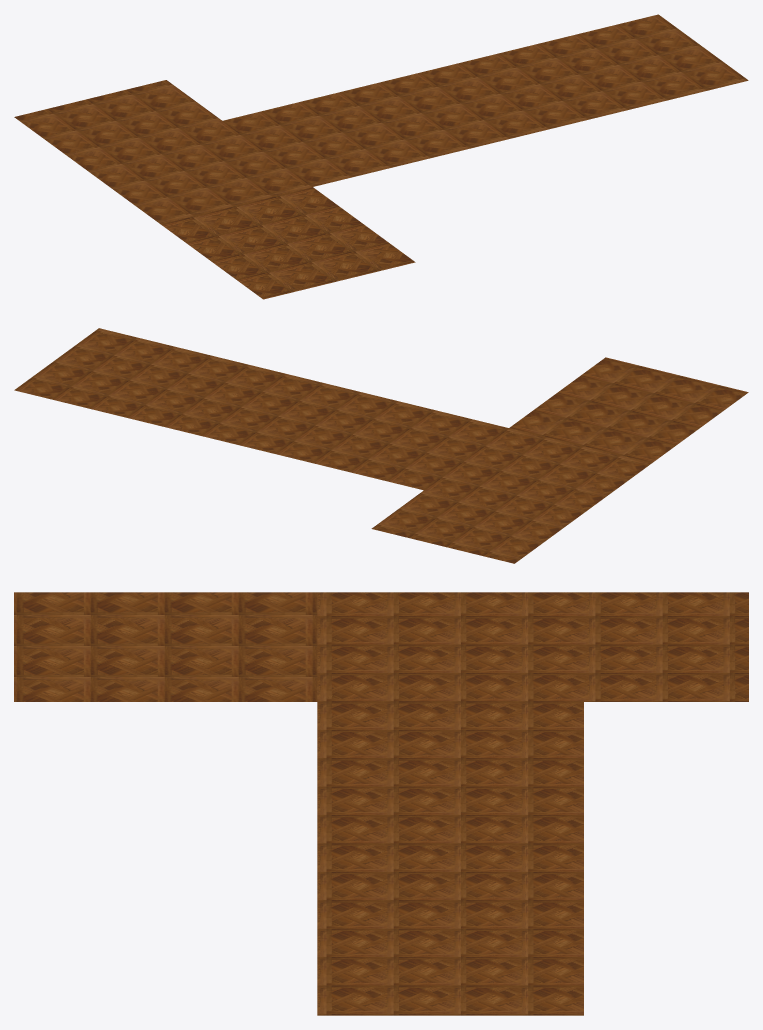
The model's file is Hallway5.fbx.
3 views of the same model, one above another, from view 1: azimuth 30°, elevation 25°; view 2: azimuth 150°, elevation 25°; view 3: azimuth 270°, elevation 25° (orthographic). The views are drawn at different scales.
Parts seen in each view (by area): view 1: Floorplan4.002; view 2: Floorplan4.002; view 3: Floorplan4.002.
Part boxes in pixels (x1=…): Floorplan4.002: x1=14, y1=14, x2=748, y2=299; Floorplan4.002: x1=14, y1=328, x2=748, y2=563; Floorplan4.002: x1=14, y1=592, x2=748, y2=1015.
Size of the model in its own units: 854 by 0.000102 by 627.
